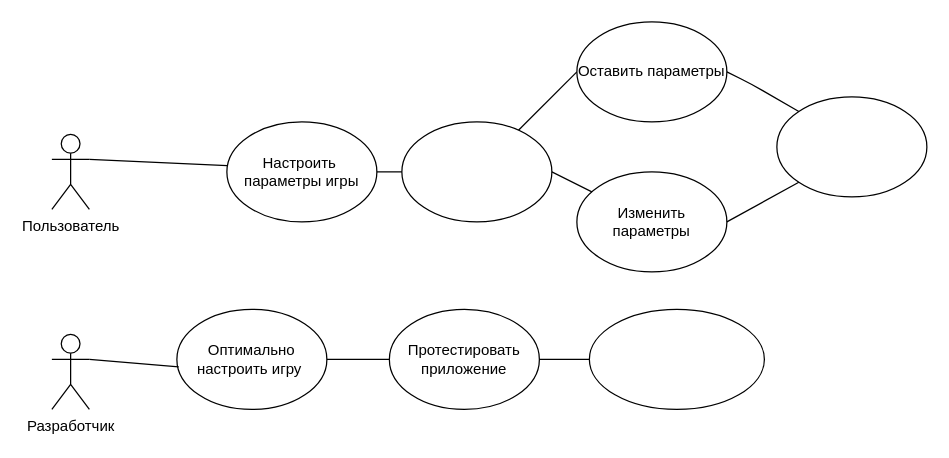
Some shapes in this 949 by 458 pixel diagram are drawn without their labels. Here are the shapes that lost their labels. From the top down, the box of each, then its label:
(776, 96, 927, 197): Наслаждаться процессом игры
(401, 121, 552, 222): Запустить приложение
(588, 308, 764, 409): Составить отчет по опыту тестирования
